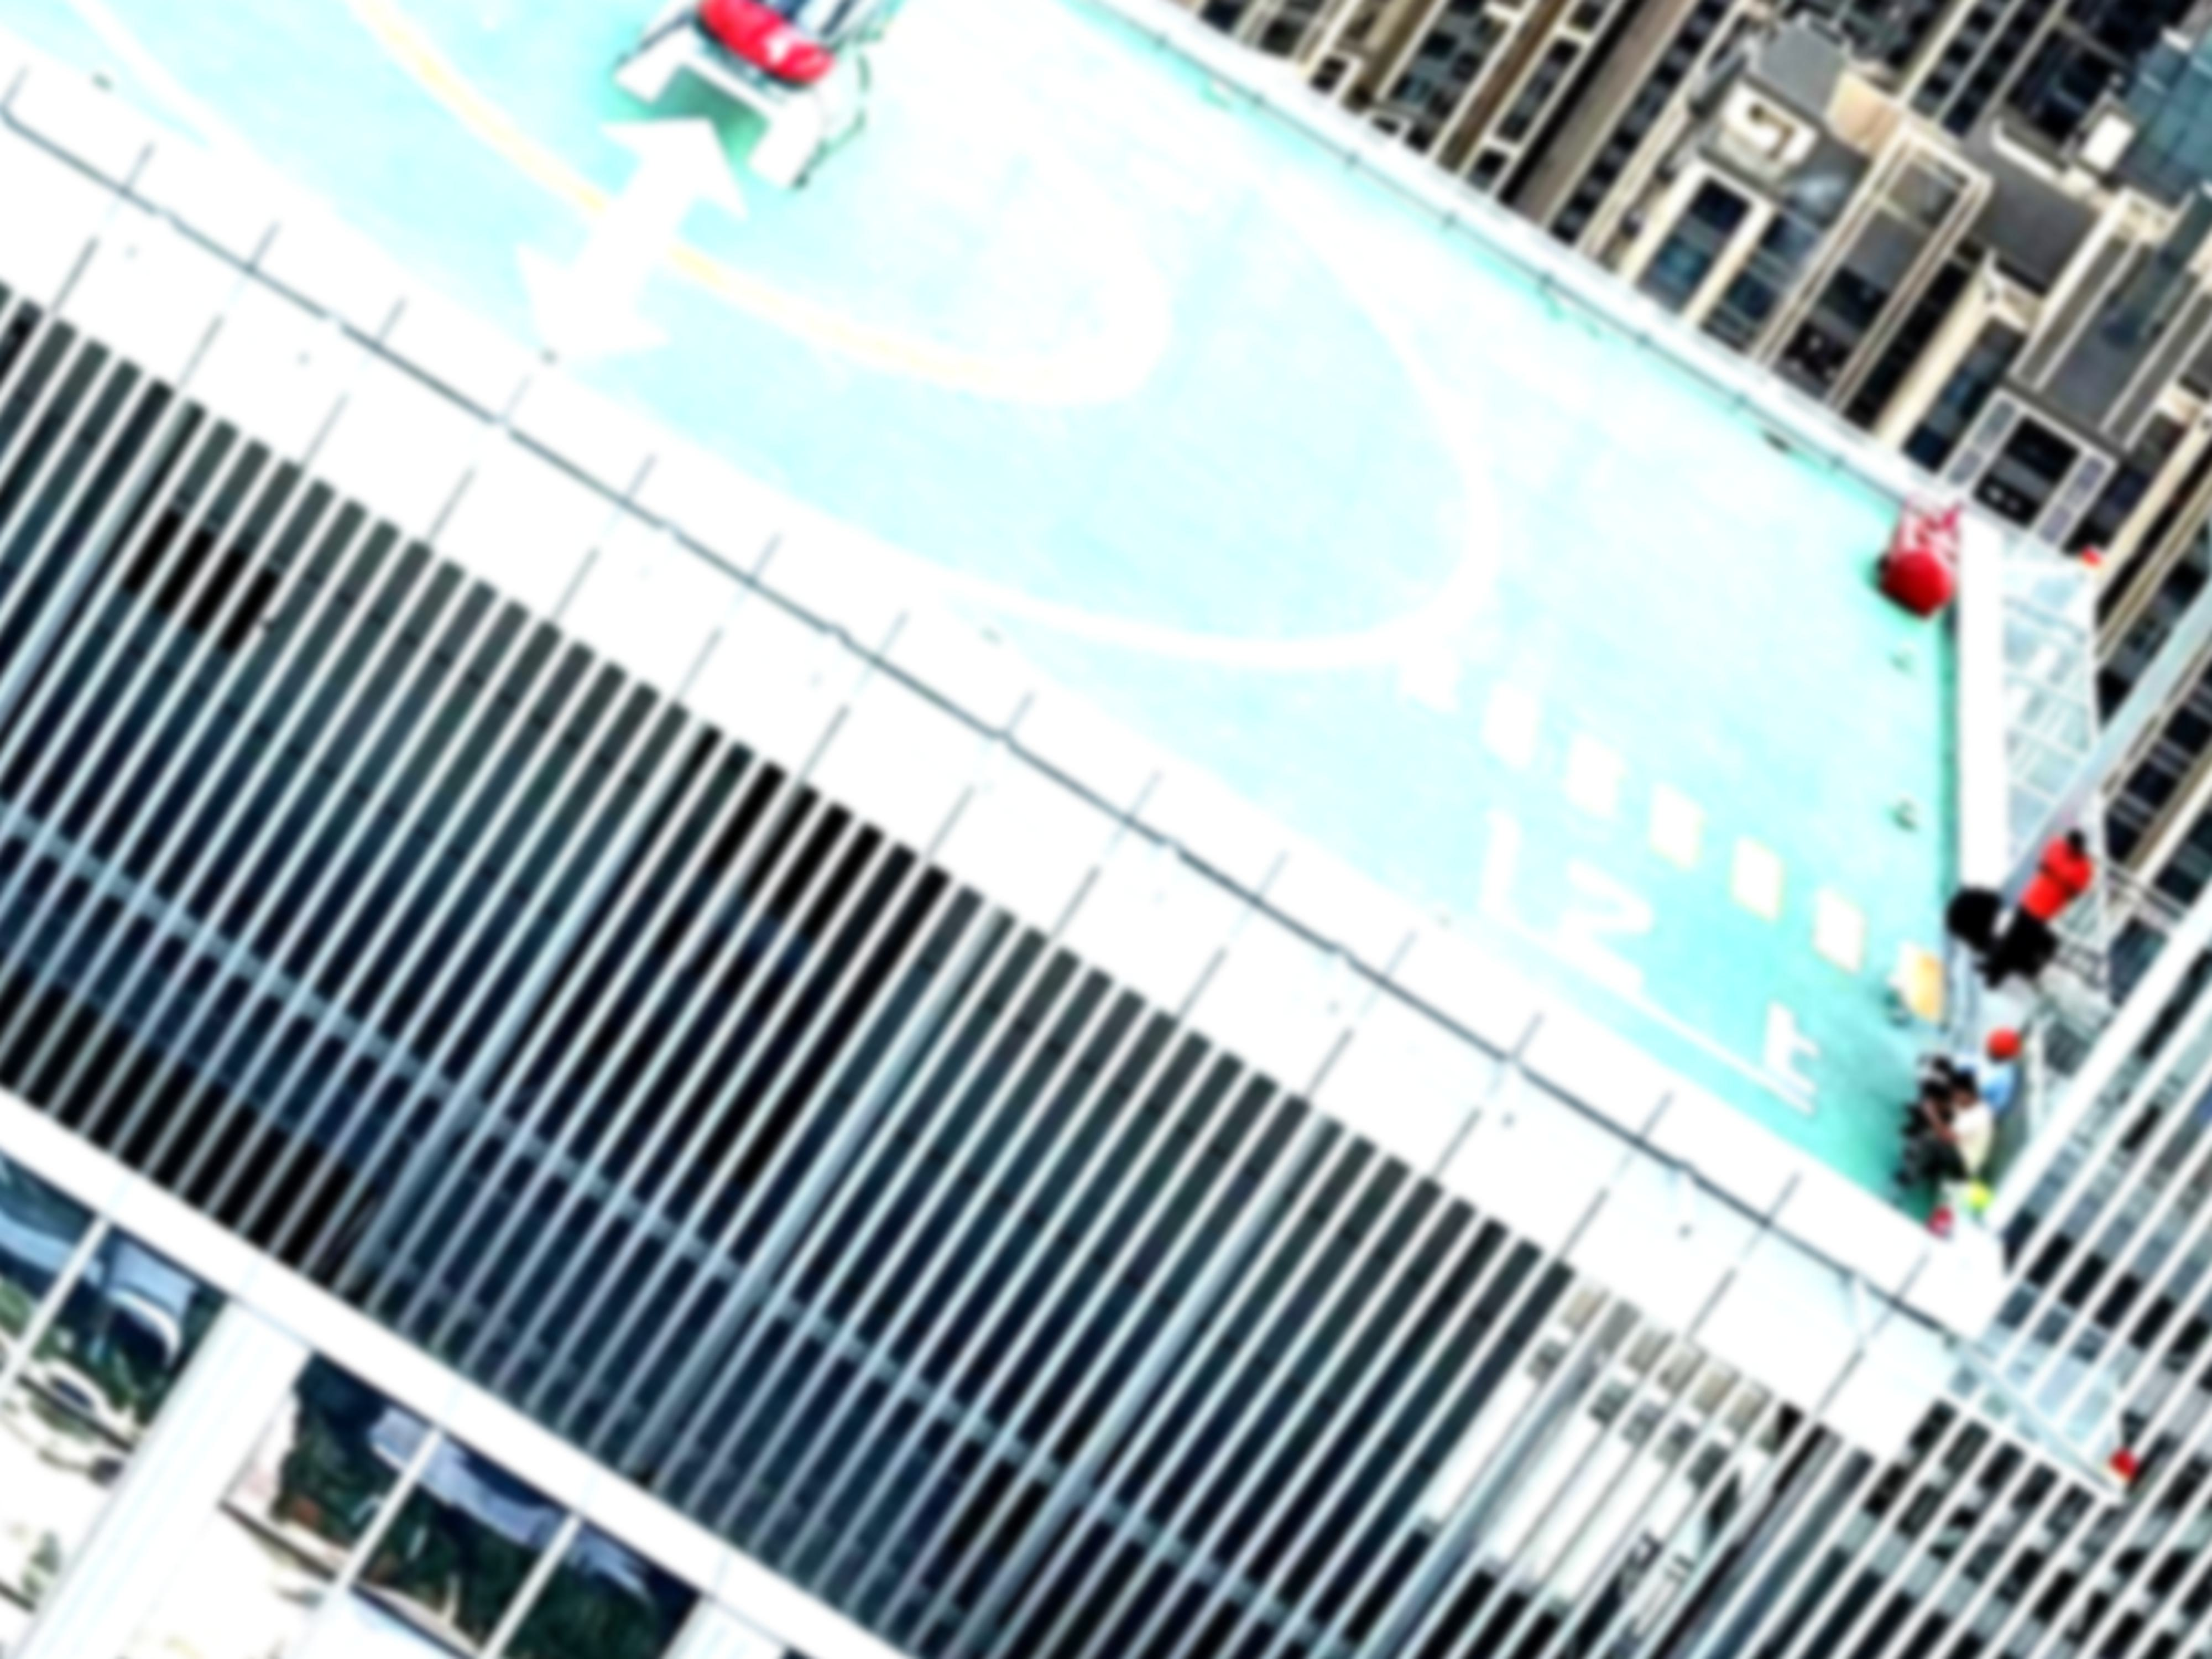Apron: (284, 0, 1195, 413)
